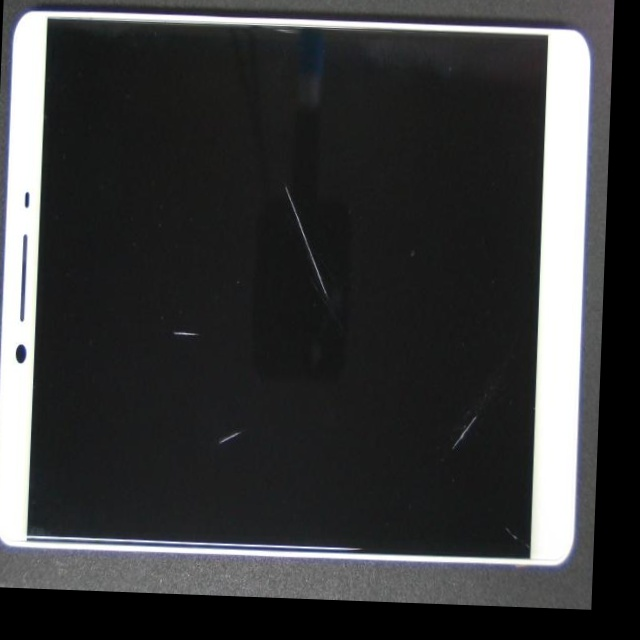scratch: (237, 164, 608, 610), (128, 184, 367, 601), (109, 149, 296, 495), (187, 203, 481, 400)
